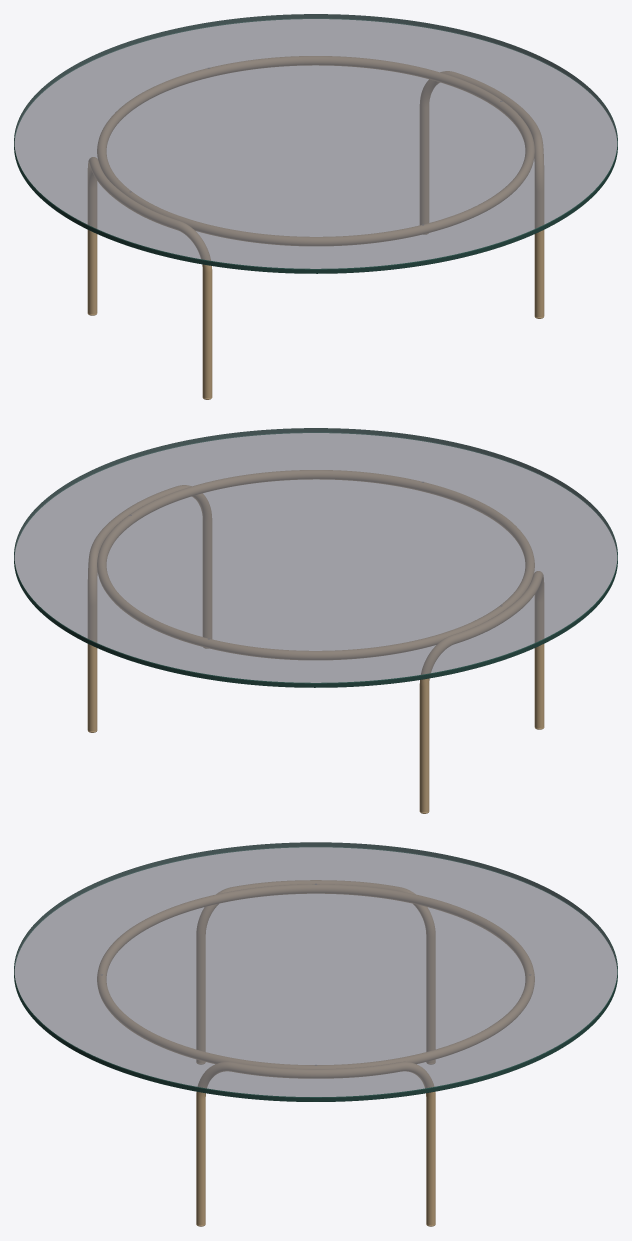
3 views of the same model, one above another, from view 1: azimuth 30°, elevation 25°; view 2: azimuth 150°, elevation 25°; view 3: azimuth 270°, elevation 25° (orthographic).
Visible parts, largest first — view 1: Coffee table; view 2: Coffee table; view 3: Coffee table.
Boxes of the visible parts, x1,y1,x2,y2 form: Coffee table: (14,14,617,399); Coffee table: (14,428,617,813); Coffee table: (14,842,617,1226).
Size of the model in its own units: 1.1 by 0.35 by 1.1.
